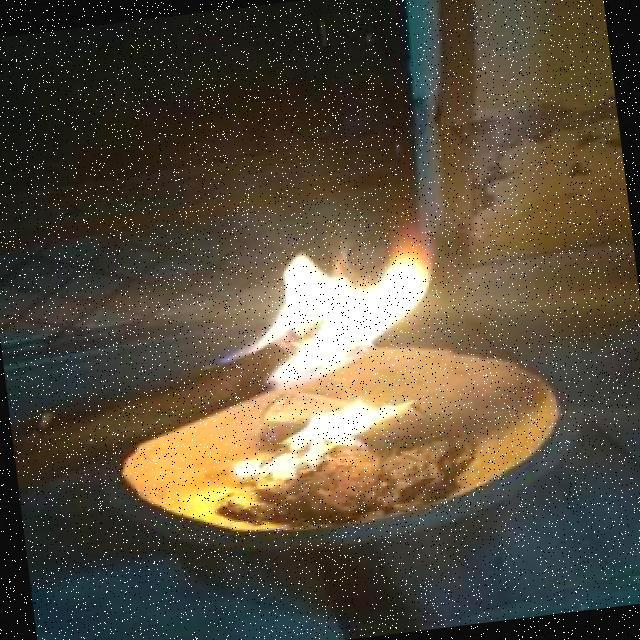Fire: (207, 208, 446, 404), (223, 390, 430, 496)
